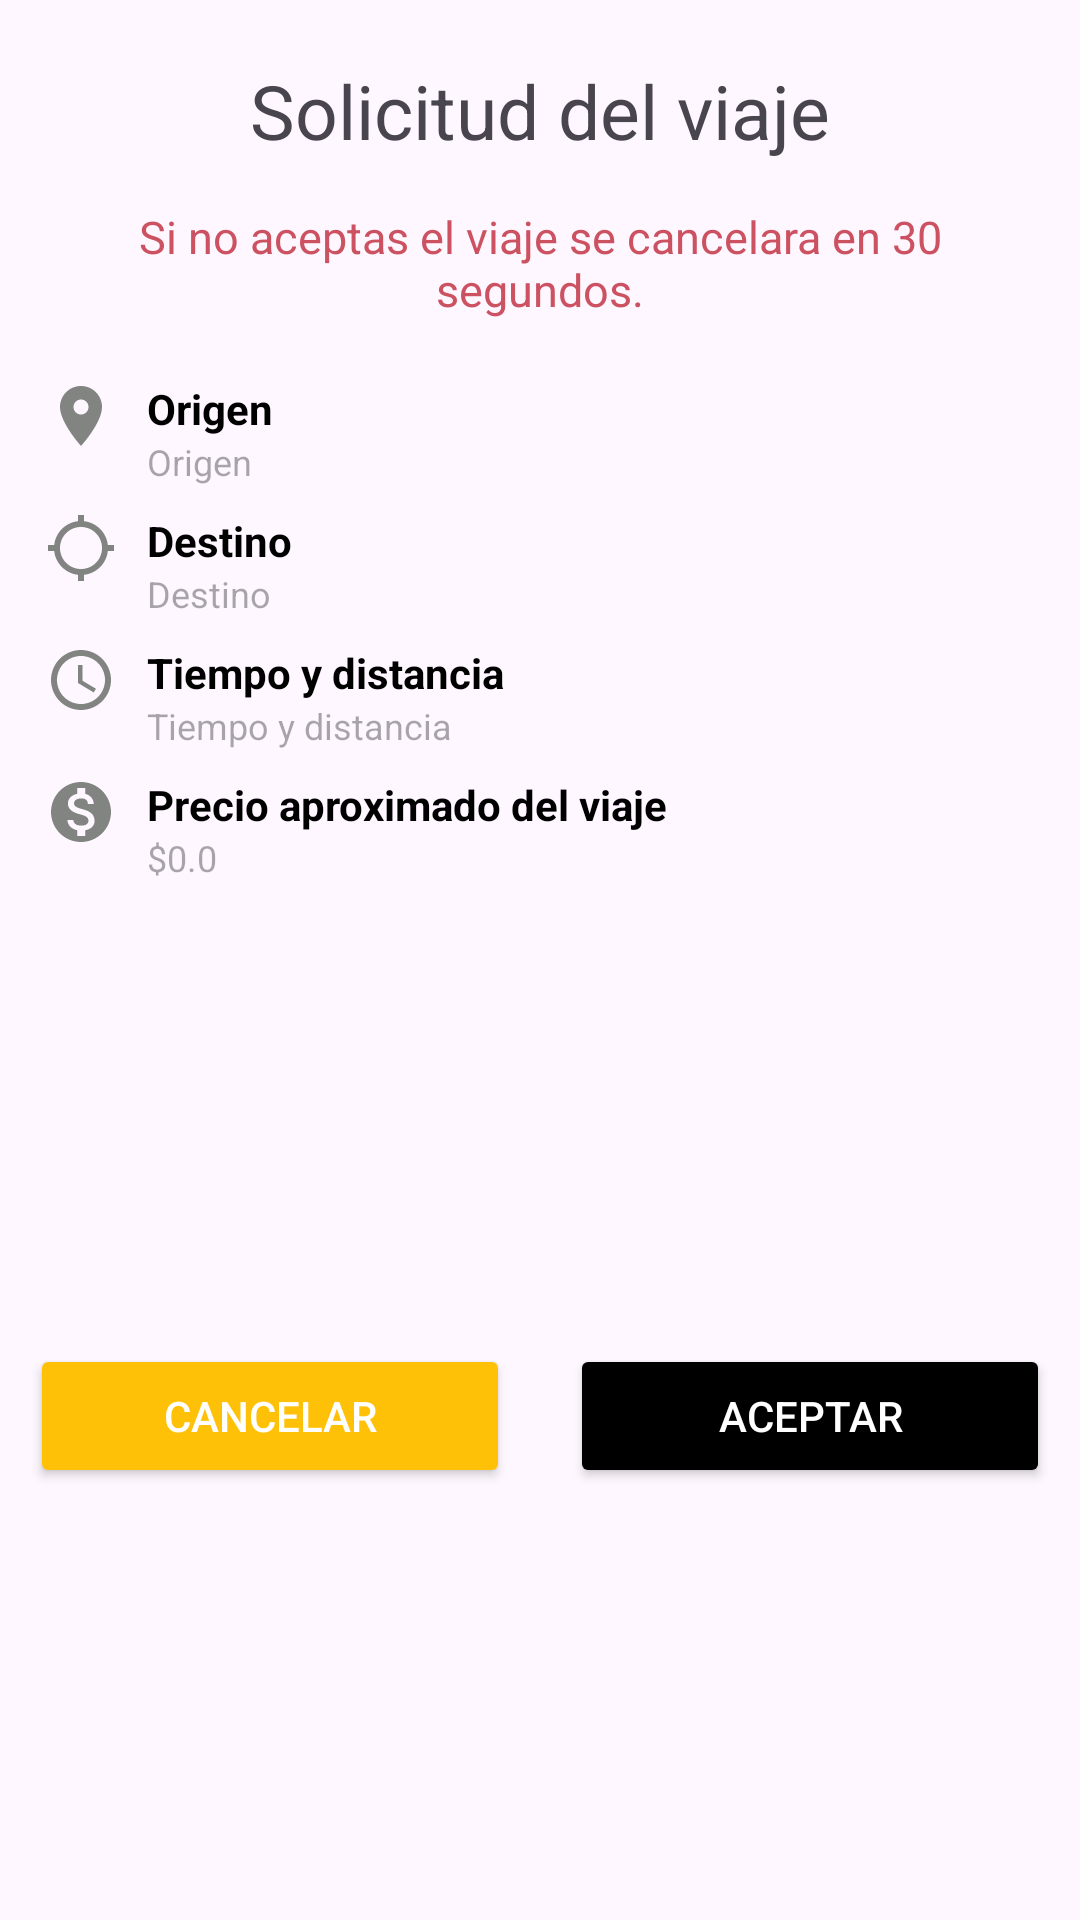

Icon bounding boxes for this 1080w x 1920h phone screenshot, format {"left": x1, "top": y1, "right": x2, "bottom": y2}:
dest trip: {"left": 48, "top": 515, "right": 114, "bottom": 581}
origin trip: {"left": 60, "top": 386, "right": 102, "bottom": 446}
price trip: {"left": 51, "top": 782, "right": 111, "bottom": 842}
time trip: {"left": 51, "top": 650, "right": 111, "bottom": 710}
